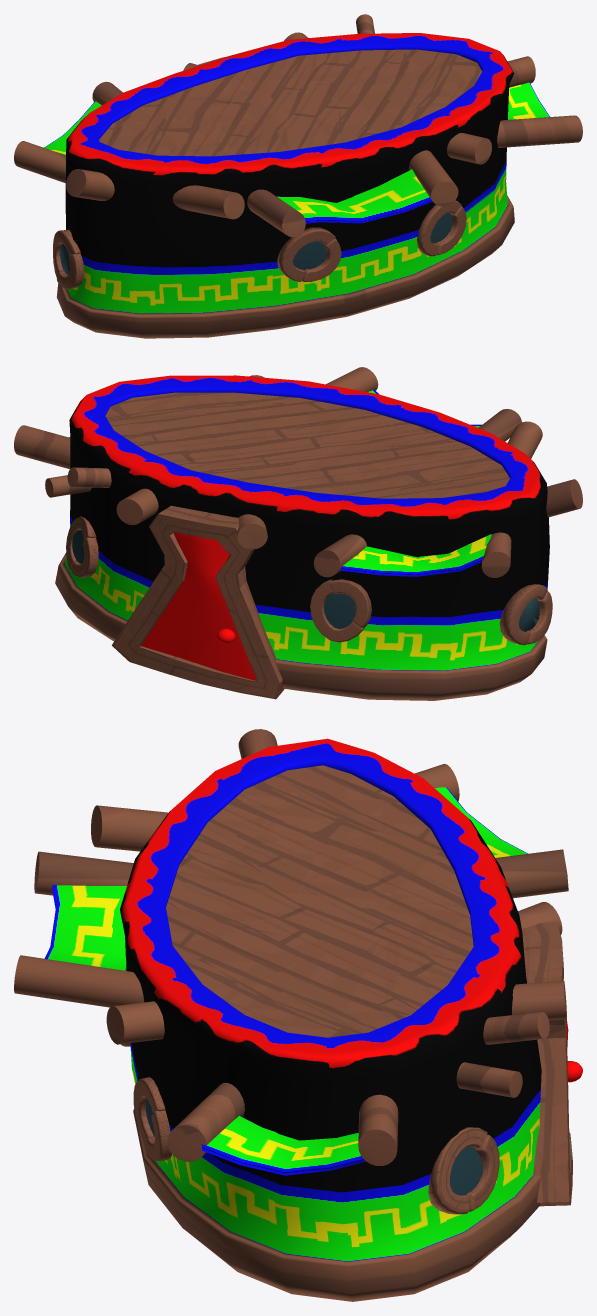
The model's file is aanggnag_home_01.fbx.
3 renders of one model, top to bottom at view 1: azimuth 30°, elevation 25°; view 2: azimuth 150°, elevation 25°; view 3: azimuth 270°, elevation 25°, orthographic. The views are drawn at different scales.
Visible parts, largest first — view 1: aanggnag_home_01; view 2: aanggnag_home_01; view 3: aanggnag_home_01.
Boxes of the visible parts, x1,y1,x2,y2 form: aanggnag_home_01: (14, 14, 582, 338); aanggnag_home_01: (14, 367, 582, 700); aanggnag_home_01: (14, 729, 582, 1301).
Bounding box in the file's own units: 725 × 256 × 494.
3 materials, 2 textured.
